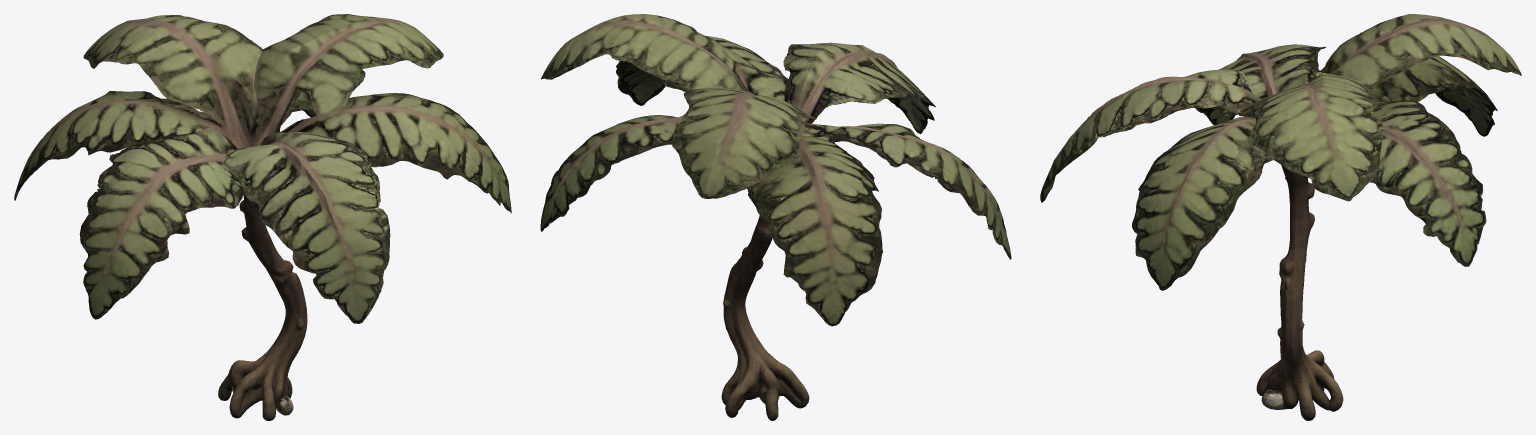
The picture shows the model from 3 angles, left to right: view 1: azimuth 30°, elevation 25°; view 2: azimuth 150°, elevation 25°; view 3: azimuth 270°, elevation 25°; orthographic projection. The views are drawn at different scales.
Parts seen in each view (by area): view 1: world; view 2: world; view 3: world.
Part boxes in pixels (x1,y1,x2,y2): world: (14, 14, 511, 420); world: (540, 14, 1011, 420); world: (1040, 14, 1521, 420).
Bounding box in the file's own units: 0.809 × 0.6863 × 0.8206.
1 material, 1 textured.
